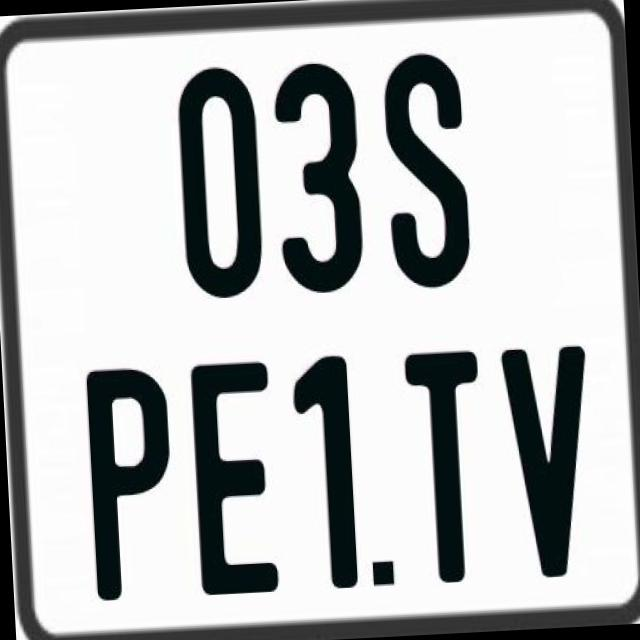0: (174, 64, 270, 298)
1: (291, 351, 362, 594)
3: (272, 58, 372, 301)
E: (186, 357, 278, 598)
P: (83, 362, 177, 598)
S: (379, 48, 476, 295)
T: (404, 348, 496, 586)
V: (496, 345, 596, 578)
